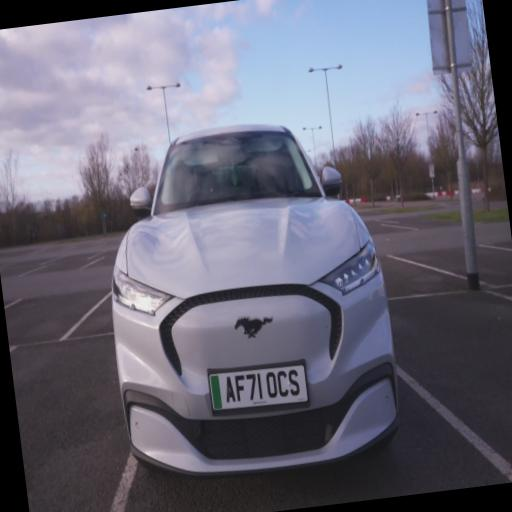numberplates: (209, 364, 308, 412)
